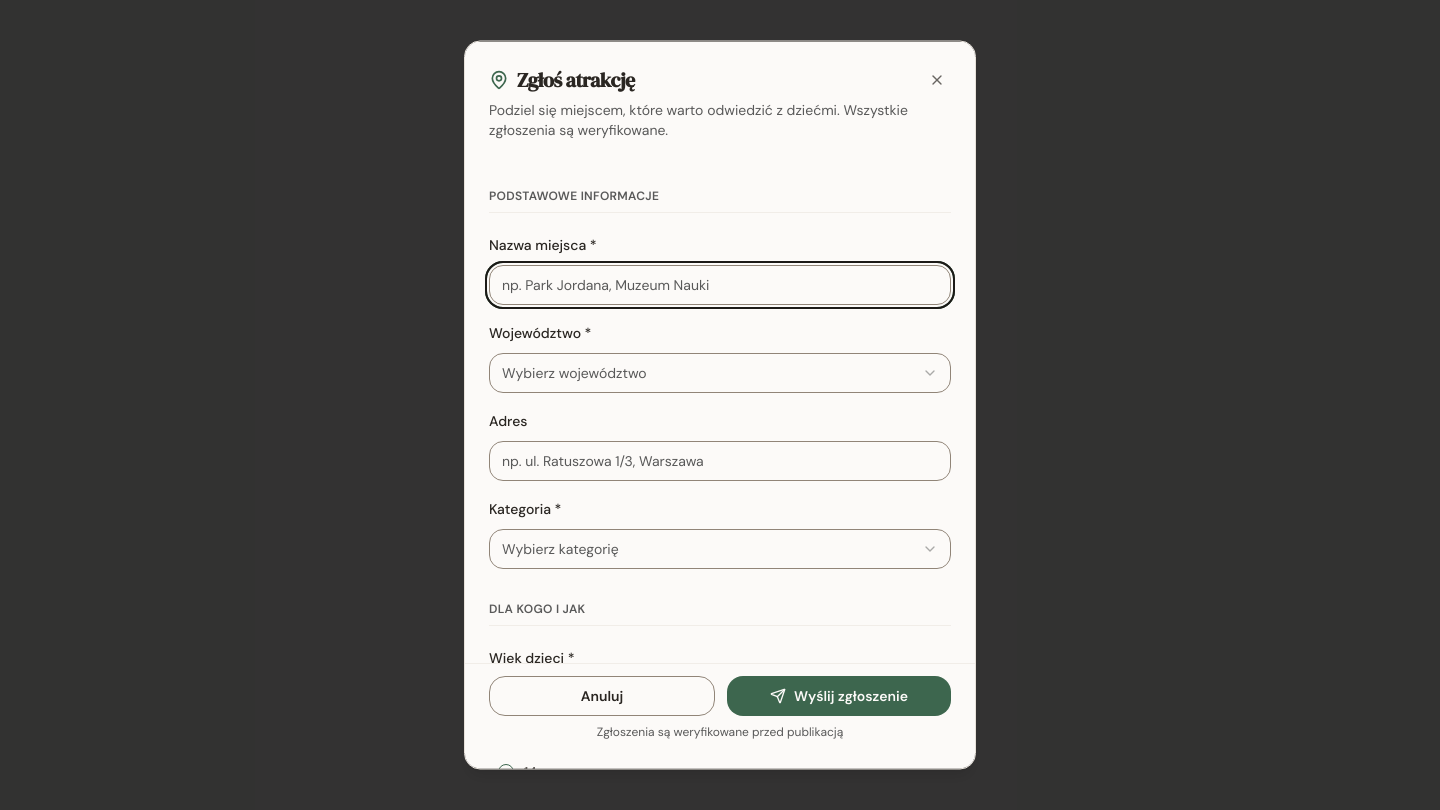
it: AN-6-192 — grupa „Wiek dzieci” w „Zgłoś atrakcję” › pusta wysyłka: komunikat w opisie grupy, checkboxy aria-invalid opisane komunikatem, 0 martwych id
Click the button "Wyślij zgłoszenie".
click(839, 696)  # box left=727, top=676, right=951, bottom=716
(page scrolled)
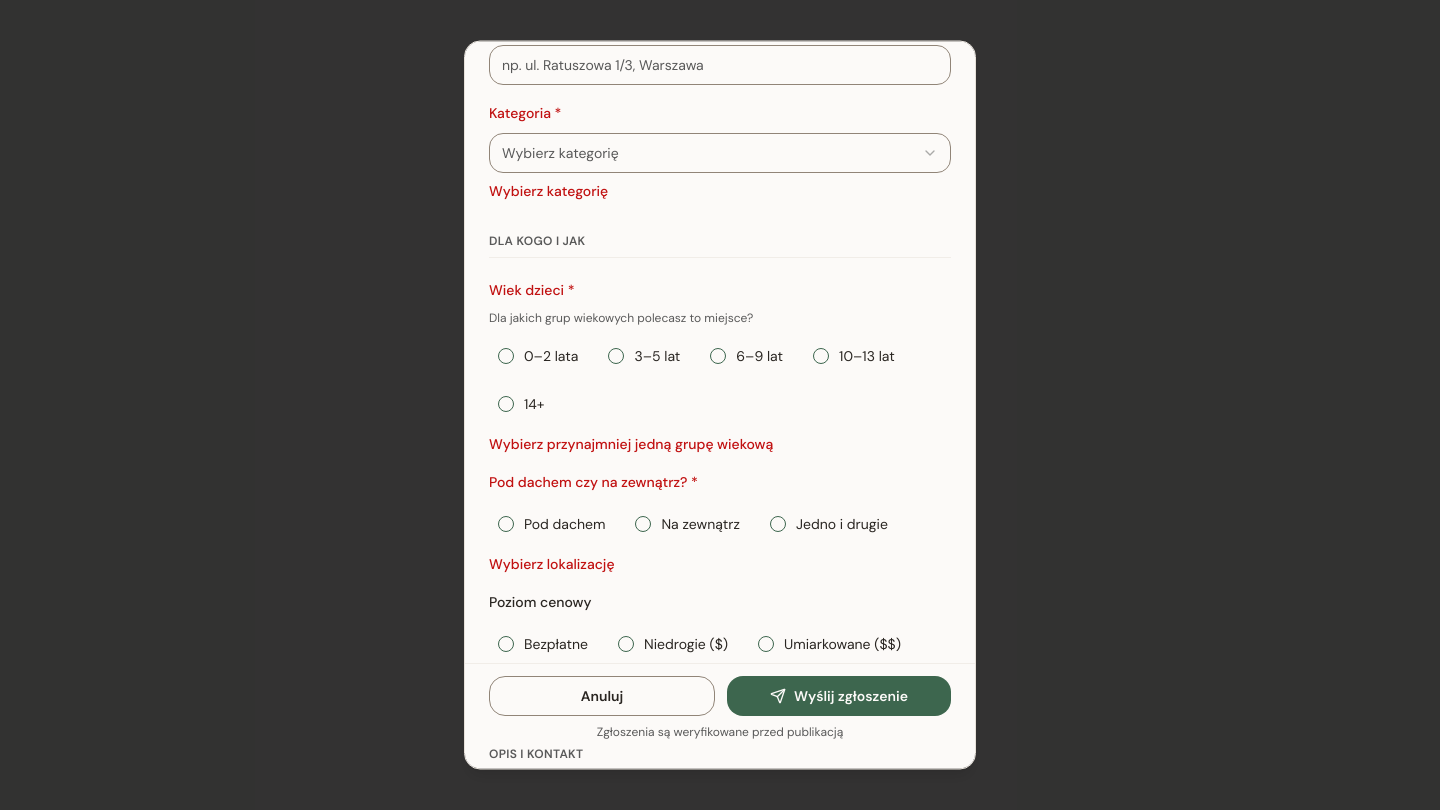
Expected: the checkbox named "0–2 lata" is marked as invalid, left=498, top=348, right=514, bottom=364
Expected: the checkbox named "3–5 lat" is marked as invalid, left=608, top=348, right=624, bottom=364
Expected: the checkbox named "6–9 lat" is marked as invalid, left=710, top=348, right=726, bottom=364
